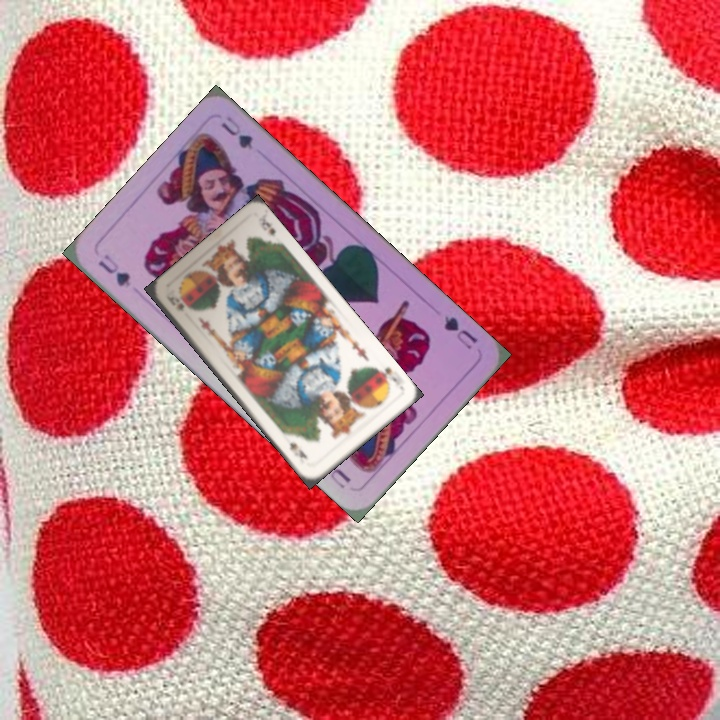GU: (440, 311, 480, 352), (94, 250, 133, 291)
SK: (371, 363, 400, 389), (162, 291, 187, 313)
